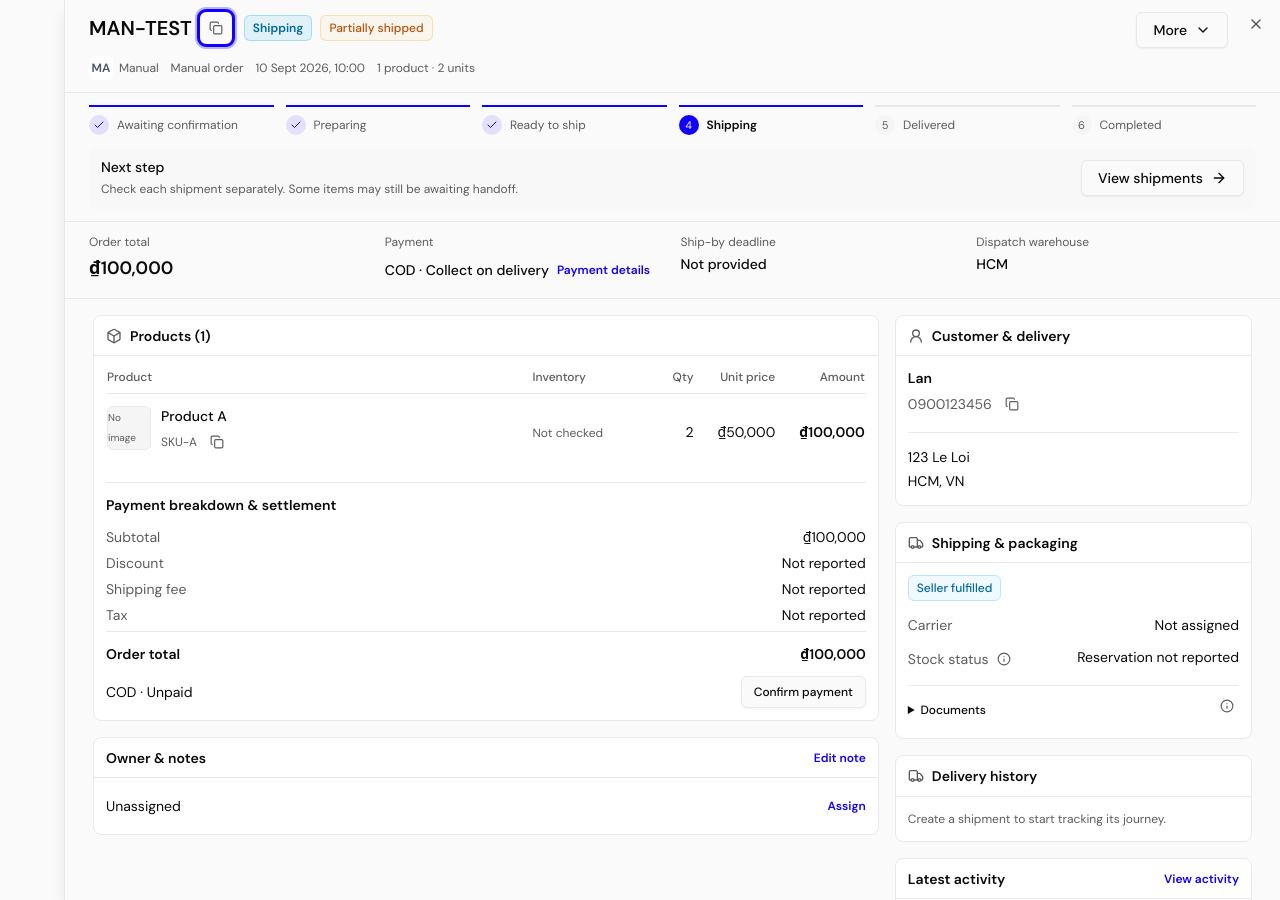
Test: Order detail workflows › retains only the historical reprint in More for partially_shipped seller orders
Press the mouse on the button "More" at x=1182, y=30, box [1136,12,1228,48]
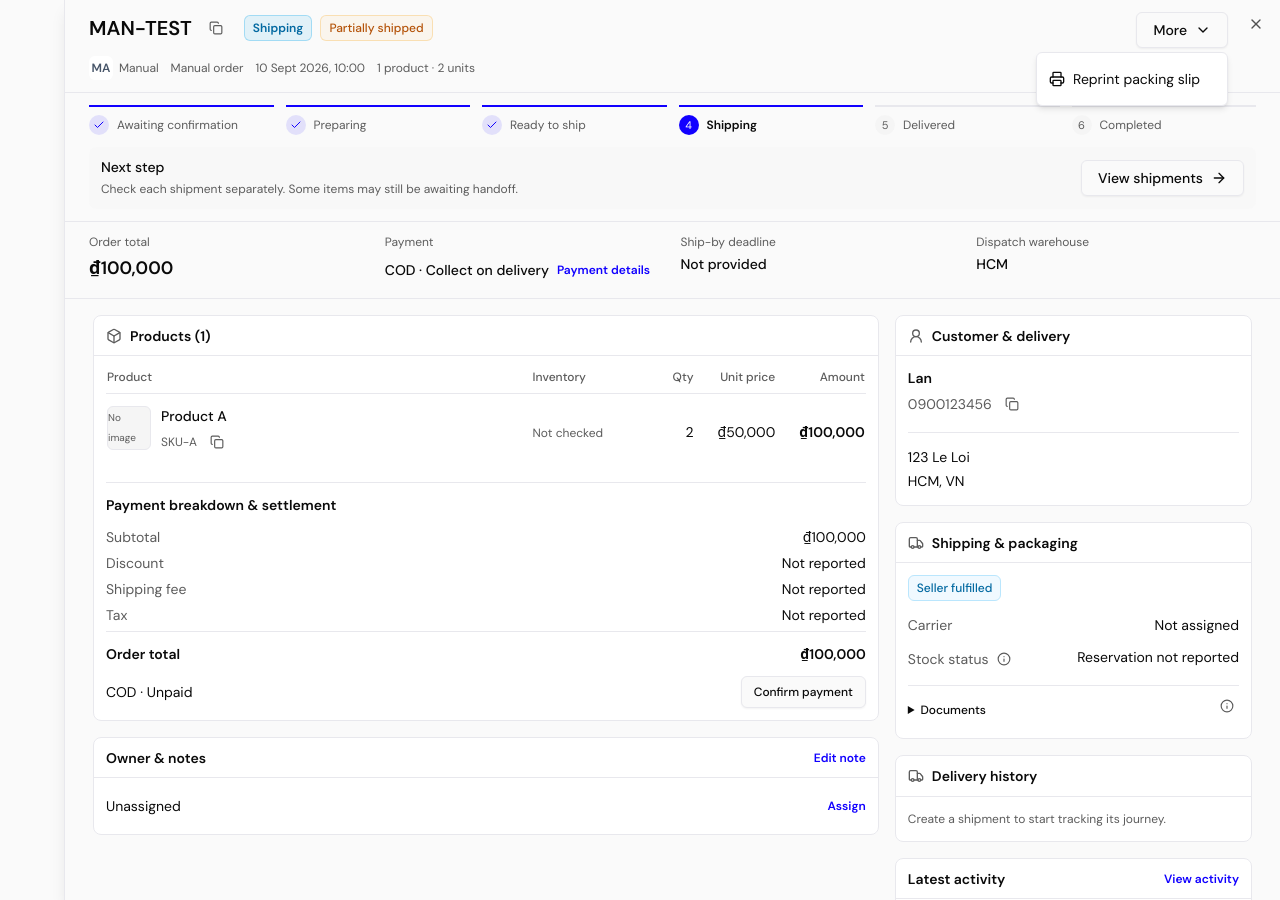
Expected: the menu items read "Reprint packing slip", in this order, [1049,70,1200,88]
